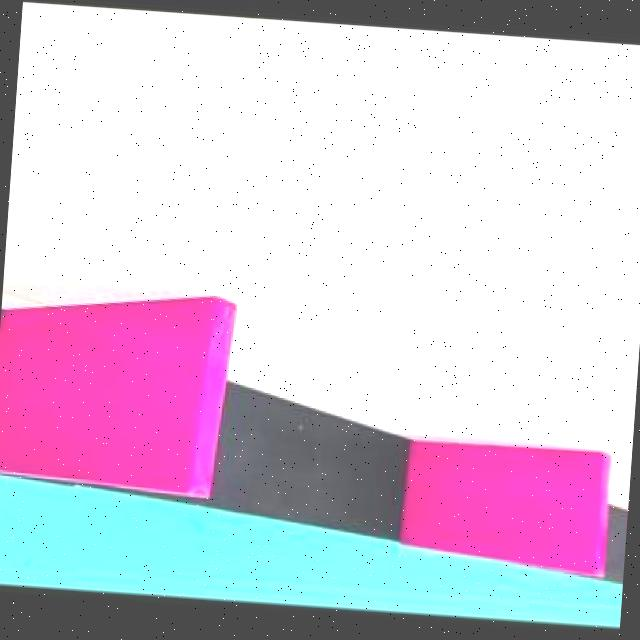xparking: (0, 270, 211, 483), (406, 436, 604, 551)
